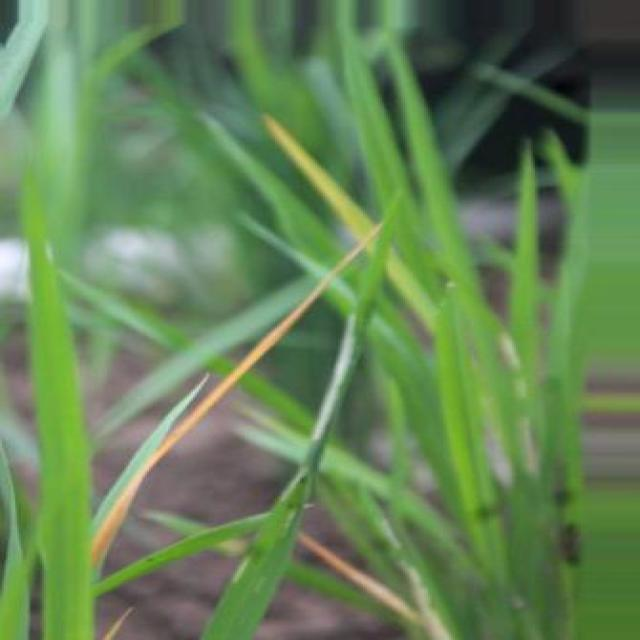Rice Tungro: (92, 225, 378, 564), (298, 532, 419, 622)
